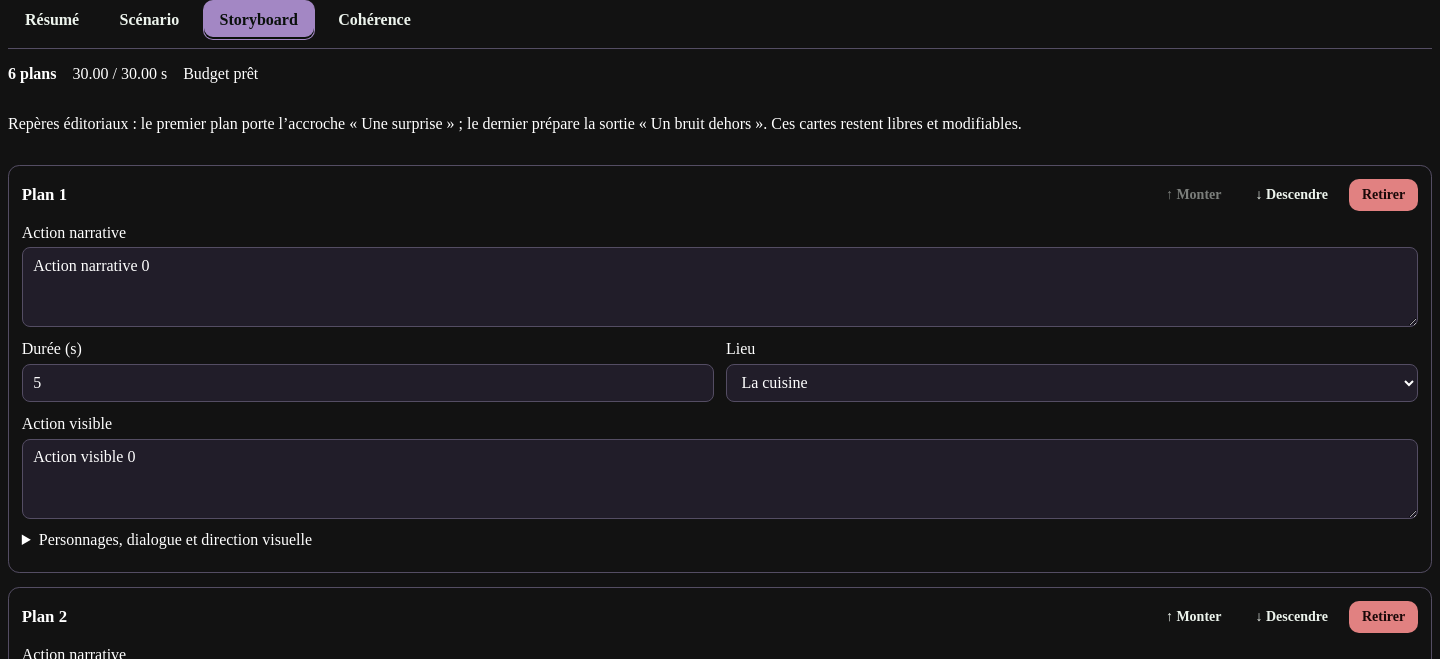
Test: EpisodeAuthoring › blocks an on-screen speaker until the character is included in the shot
Expected: the text "Budget prêt" is shown, [183,65,258,83]
Click the heading "Personnages, dialogue et direction visuelle".
click(175, 540)  # box [39,531,312,548]
(page scrolled)
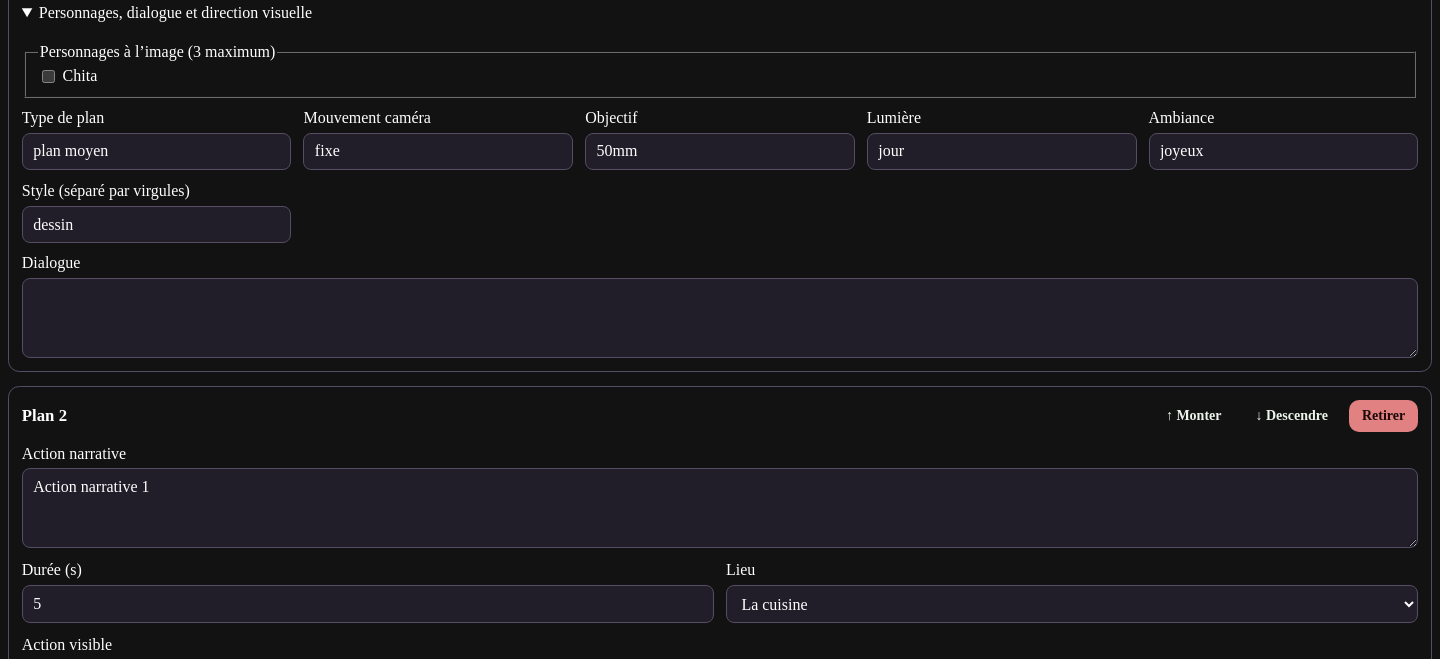
Type "Les pâtes sont à moi !" into the text box labelled "Dialogue".
click(720, 318); type("Les pâtes sont à moi !")  # box [22,278,1418,358]
(page scrolled)
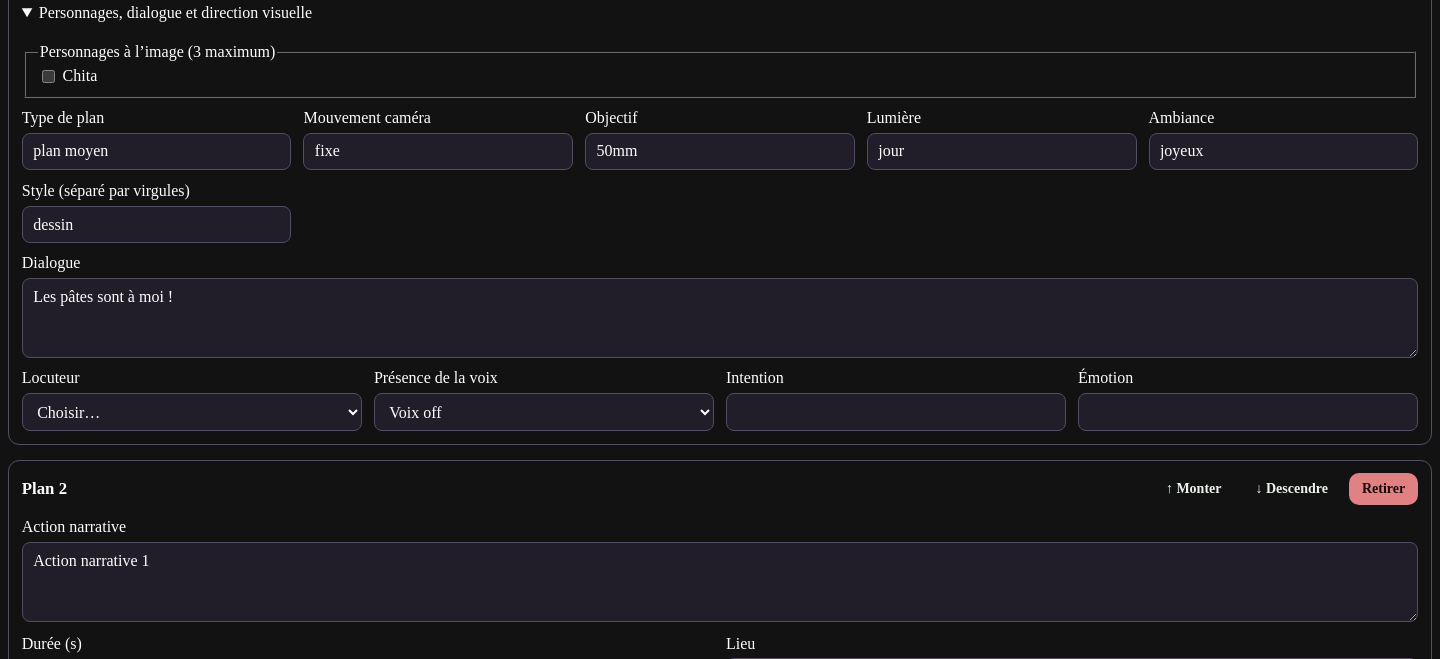
Select "Chita" in the dropdown labelled "Locuteur" at (192, 412), box [22,393,362,432]
(page scrolled)
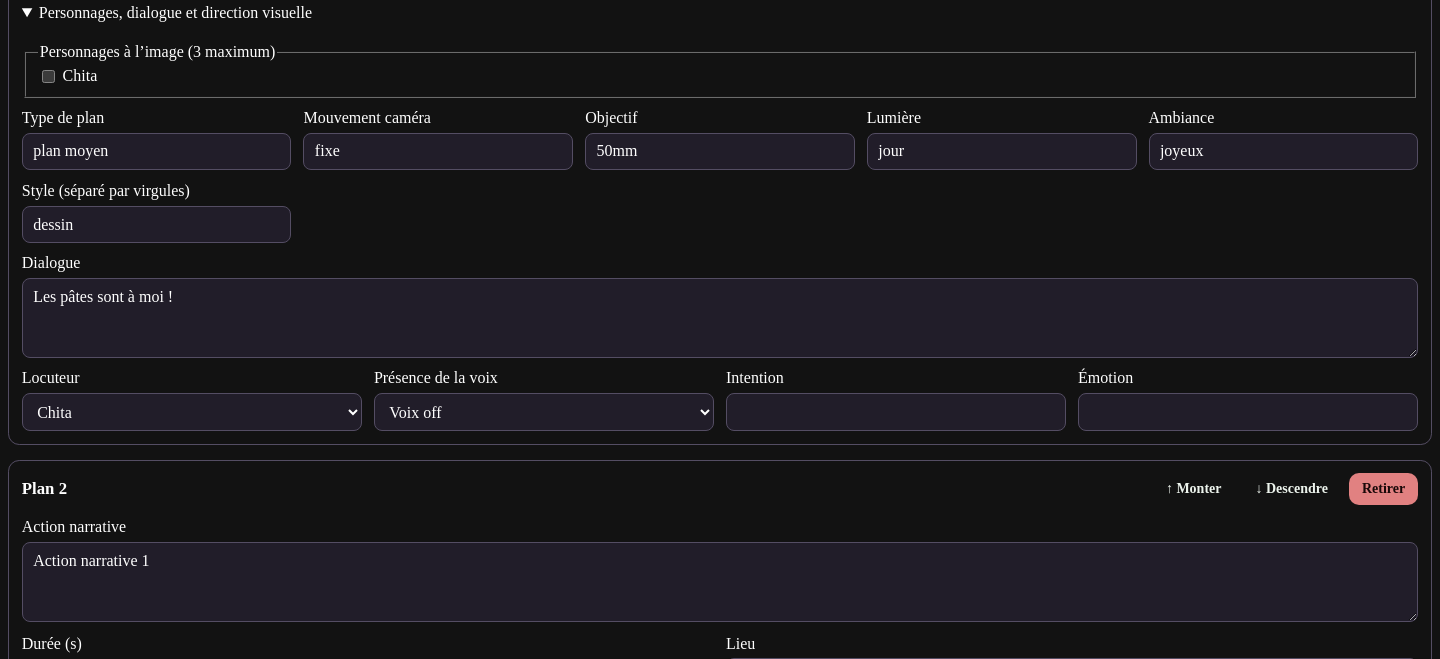
Select "À l’image" in the dropdown labelled "Présence de la voix" at (544, 412), box [374,393,714,432]
(page scrolled)
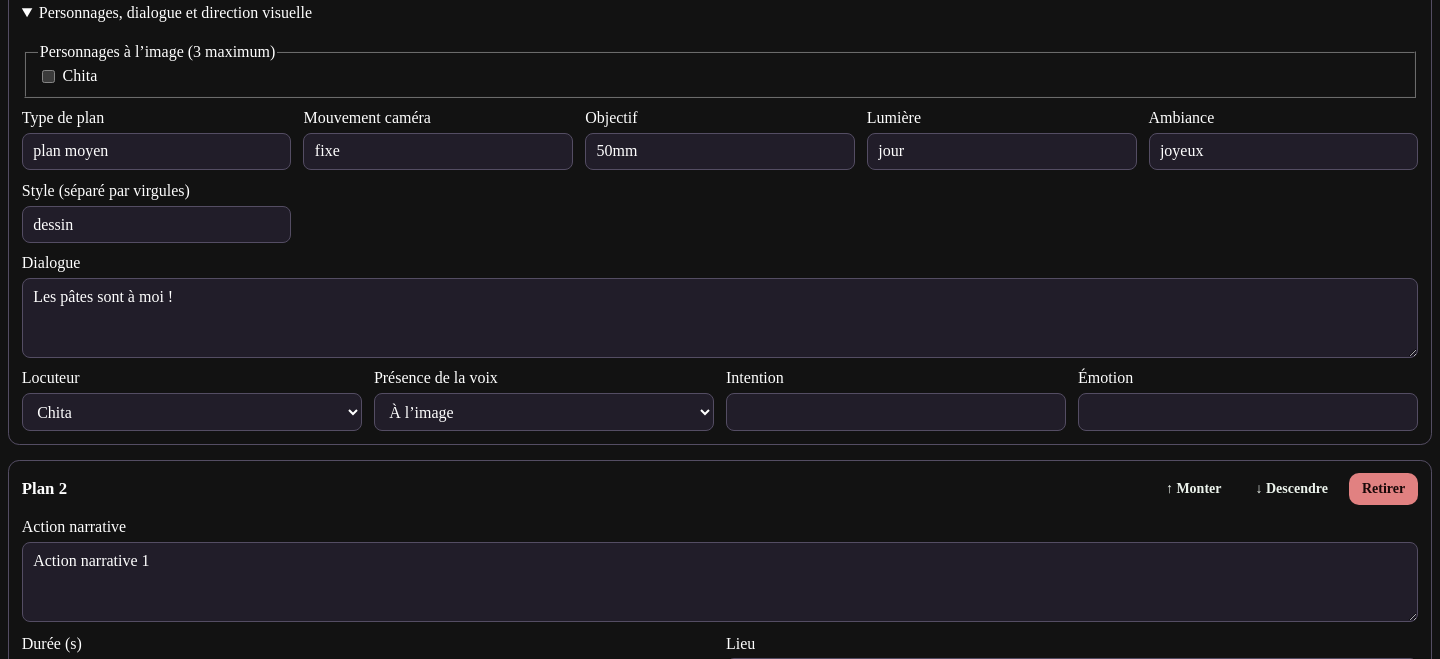
Click the checkbox labelled "Chita".
click(48, 76)  # box [42,70,55,83]
(page scrolled)
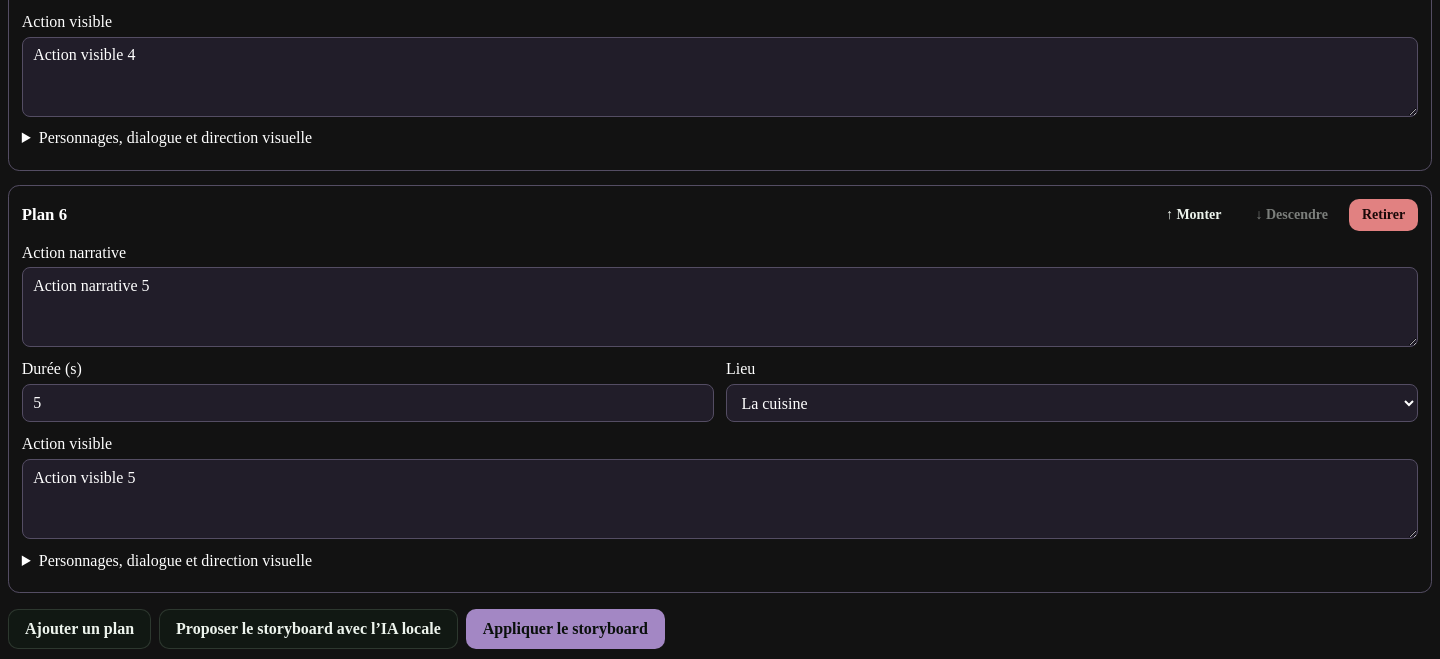
Now the button "Appliquer le storyboard" is enabled, box [466,609,665,649]
